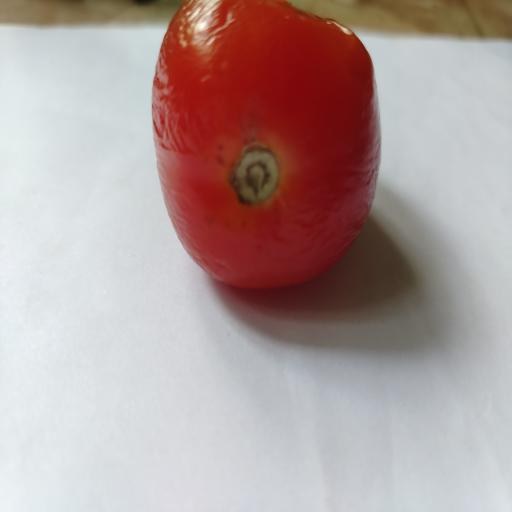spoiled: (152, 0, 381, 288)
